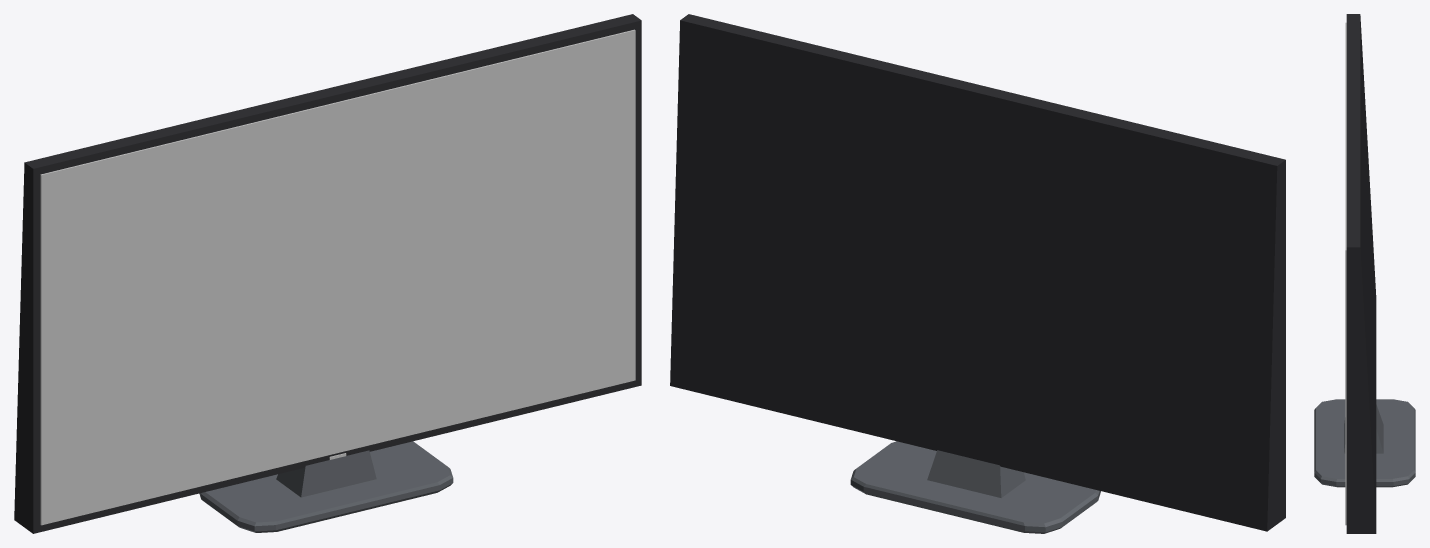
Rendered from FN_TV_Flatscreen.obj.
3 renders of one model, left to right at view 1: azimuth 30°, elevation 25°; view 2: azimuth 150°, elevation 25°; view 3: azimuth 270°, elevation 25°, orthographic. The views are drawn at different scales.
Parts seen in each view (by area): view 1: FN_TV_Flatscreen; view 2: FN_TV_Flatscreen; view 3: FN_TV_Flatscreen.
Part boxes in pixels (x1,y1,x2,y2): FN_TV_Flatscreen: (14, 14, 641, 533); FN_TV_Flatscreen: (670, 14, 1285, 533); FN_TV_Flatscreen: (1314, 14, 1415, 533).
Size of the model in its own units: 1.2 by 0.76 by 0.22.
2 materials, 1 textured.
